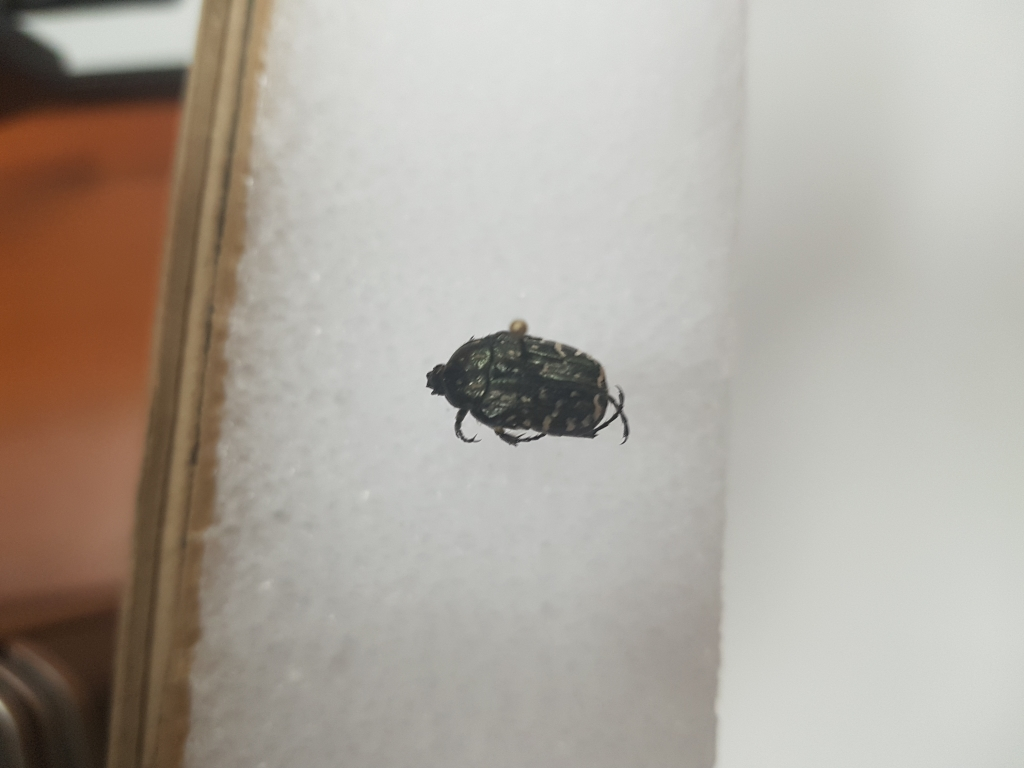Oxythyrea_funesta: (405, 324, 633, 450)
